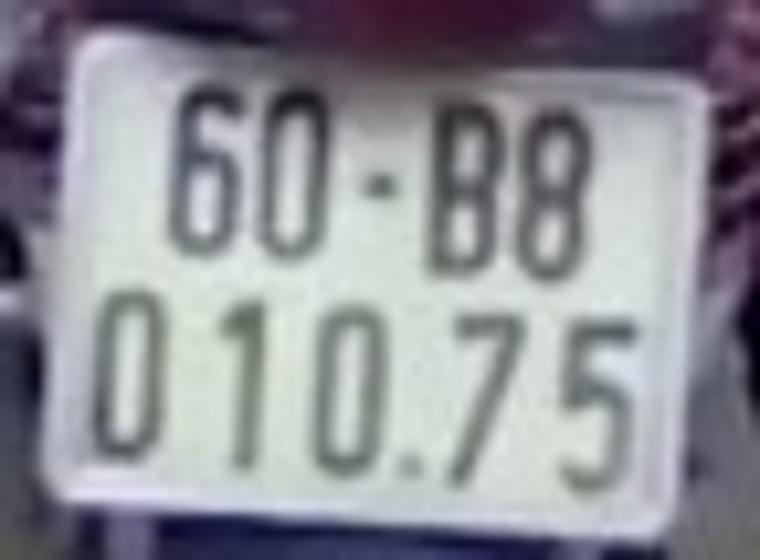-: (348, 155, 412, 206)
.: (396, 441, 435, 492)
0: (254, 85, 335, 257), (92, 282, 164, 460), (316, 305, 386, 476)
1: (212, 298, 273, 477)
5: (557, 306, 642, 503)
6: (172, 81, 244, 253)
7: (451, 309, 534, 485)
8: (522, 100, 595, 281)
B: (428, 100, 506, 279)
